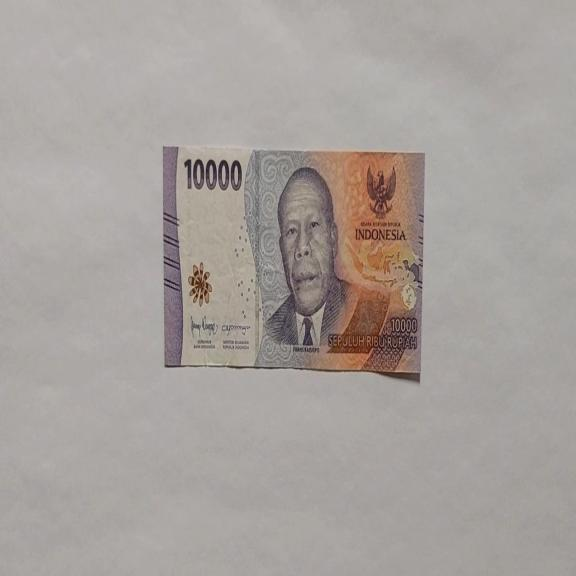Kertas: (162, 144, 425, 378), (182, 155, 242, 193)
